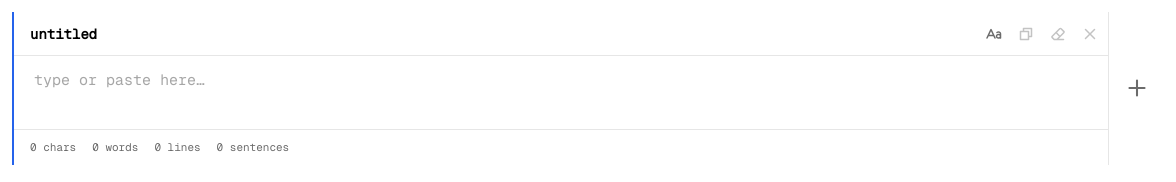
Test: editor interactions › adds, focuses, and closes editor columns
Click the button named "new editor" at (1136, 88), box [1108,12,1164,165]
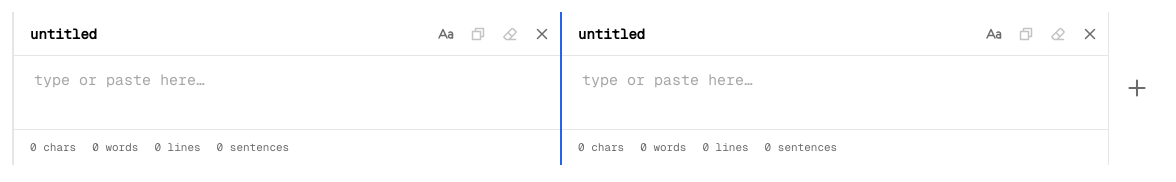
Expected: the number of elements "untitled 0 chars 0 words 0 lines 0 sentences" is 2, [12,12,560,165]; [560,12,1108,165]
Click the 2nd button named "close editor" at (1090, 34), box [1076,20,1104,48]
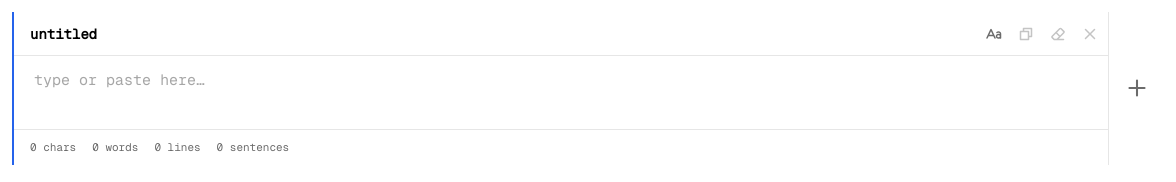
Expected: the number of elements "untitled 0 chars 0 words 0 lines 0 sentences" is 1
